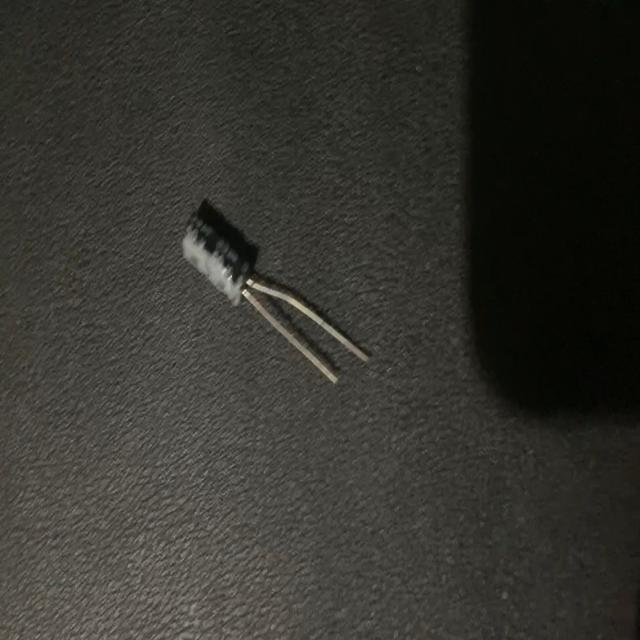capacitor: (179, 192, 375, 400)
